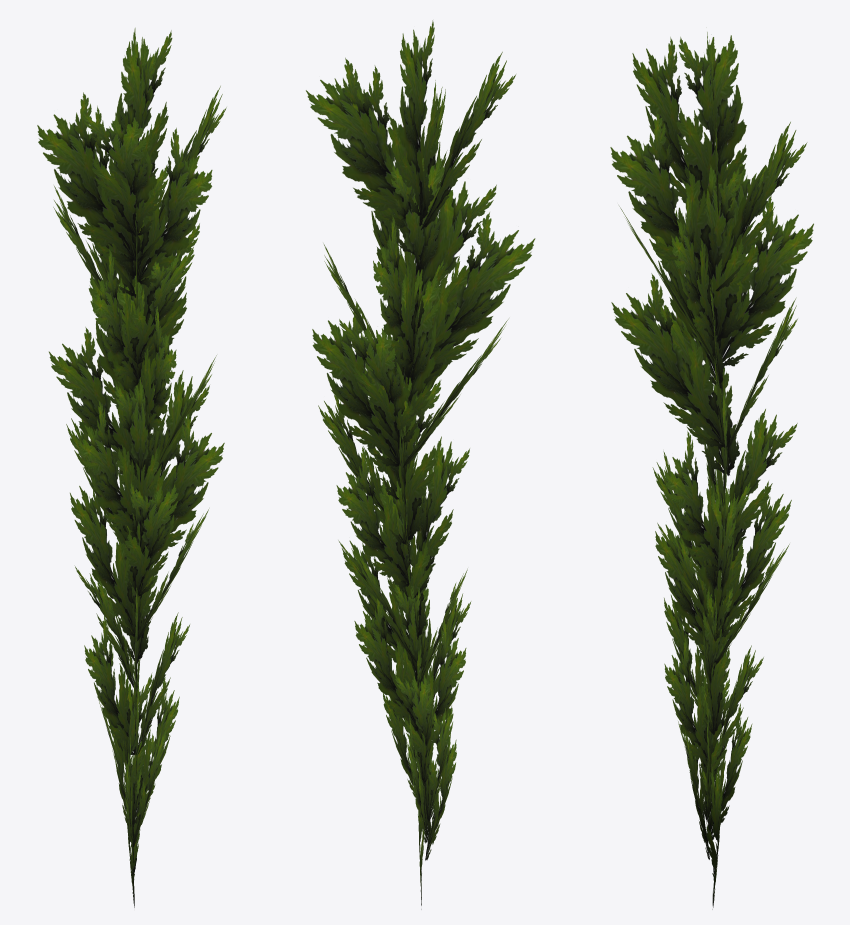
The model's file is SeaWeed05_LOD1_FattooCreater.glb.
The picture shows the model from 3 angles, left to right: view 1: azimuth 30°, elevation 25°; view 2: azimuth 150°, elevation 25°; view 3: azimuth 270°, elevation 25°; orthographic projection.
Parts seen in each view (by area): view 1: SeaWeed05_medium; view 2: SeaWeed05_medium; view 3: SeaWeed05_medium.
Boxes of the visible parts, bbox=[...] form: SeaWeed05_medium: bbox=[37, 28, 226, 907]; SeaWeed05_medium: bbox=[306, 20, 535, 909]; SeaWeed05_medium: bbox=[610, 32, 813, 909].
Bounding box in the file's own units: 0.1943 × 0.7933 × 0.2023.
1 material, 1 textured.
